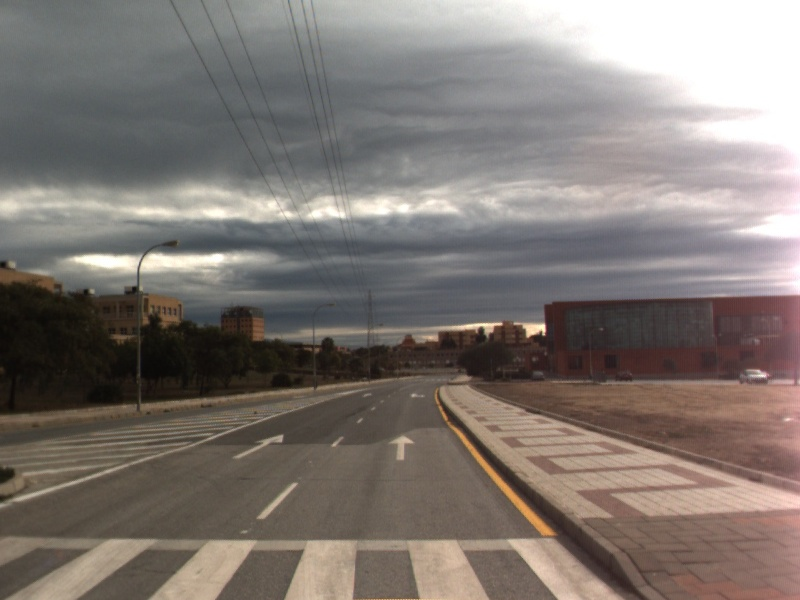STRAIGHT: (229, 432, 286, 461), (386, 433, 418, 462)
